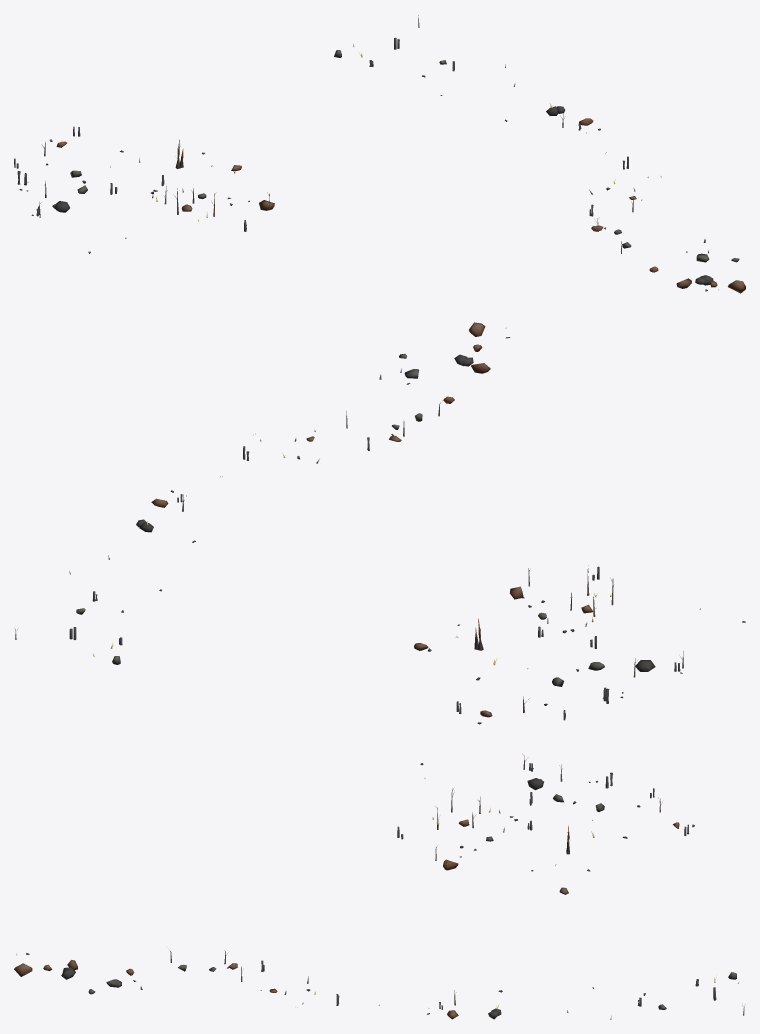
The model's file is ash_land_scatter_c20_30_lod1.glb.
3 views of the same model, one above another, from view 1: azimuth 30°, elevation 25°; view 2: azimuth 150°, elevation 25°; view 3: azimuth 270°, elevation 25° (orthographic). The views are drawn at different scales.
Visible parts, largest first — view 1: ash_land_scatter_c20_30_lod1; view 2: ash_land_scatter_c20_30_lod1; view 3: ash_land_scatter_c20_30_lod1.
Boxes of the visible parts, bbox=[...] form: ash_land_scatter_c20_30_lod1: bbox=[14, 15, 745, 293]; ash_land_scatter_c20_30_lod1: bbox=[15, 322, 745, 724]; ash_land_scatter_c20_30_lod1: bbox=[14, 754, 745, 1019].
Size of the model in its own units: 205 by 19.94 by 255.
